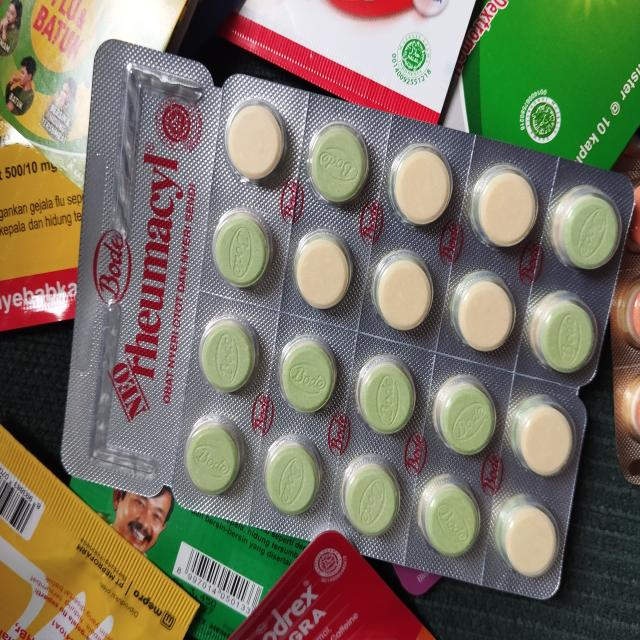B3: (61, 40, 639, 601), (0, 426, 200, 640)
